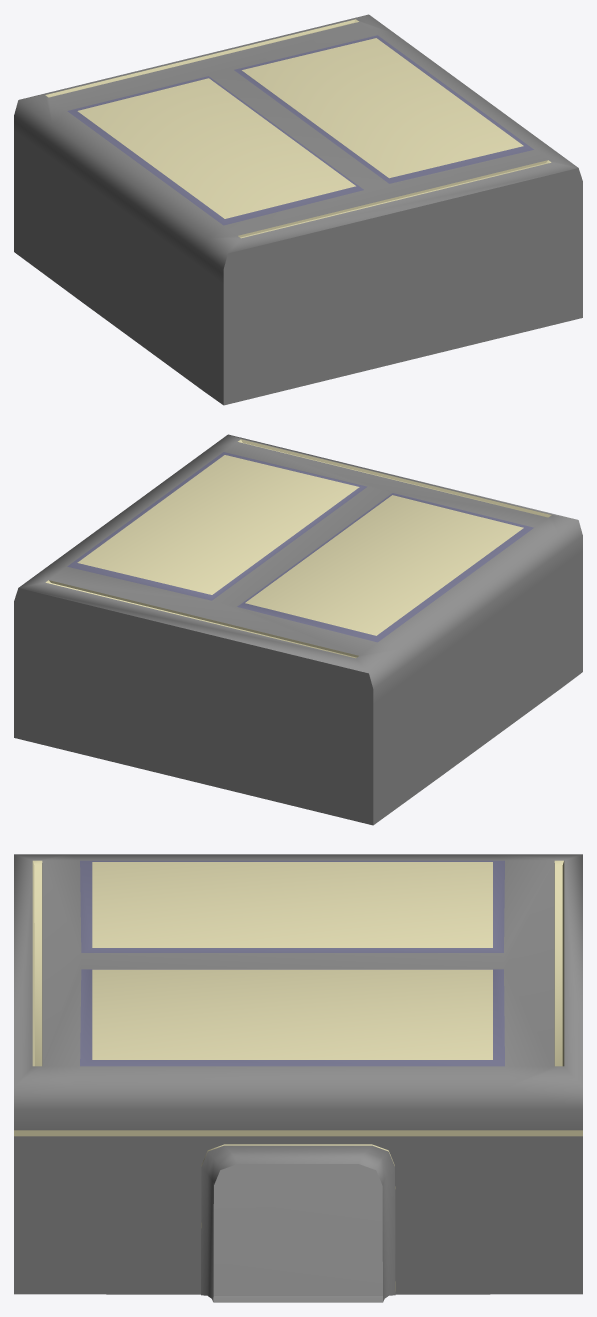
The model's file is compucters.fbx.
3 views of the same model, one above another, from view 1: azimuth 30°, elevation 25°; view 2: azimuth 150°, elevation 25°; view 3: azimuth 270°, elevation 25° (orthographic). The views are drawn at different scales.
Parts seen in each view (by area): view 1: Cube.030; view 2: Cube.030; view 3: Cube.030.
Boxes of the visible parts, left/top/right/bottom form: Cube.030: left=14, top=14, right=582, bottom=405; Cube.030: left=14, top=434, right=582, bottom=825; Cube.030: left=14, top=854, right=582, bottom=1302.
Bounding box in the file's own units: 744 × 304 × 726.
